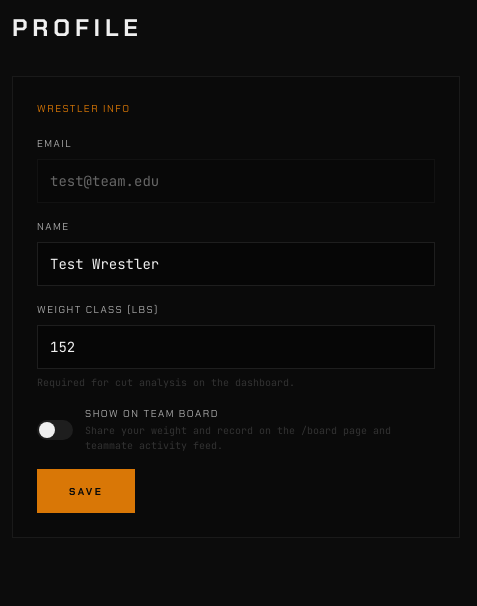
Test: Profile › error path — shows error when save fails
Expected: the field with placeholder "Your name" below "NAME" holds "Test Wrestler", top-left (37, 242), bottom-right (435, 286)
Click the button "SAVE" at [86, 491], box top-left (37, 469), bottom-right (135, 513)
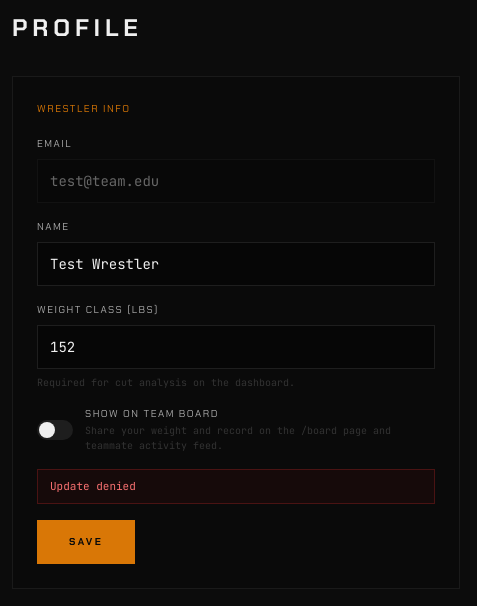
Expected: the text "Update denied" is shown, top-left (37, 469), bottom-right (435, 504)
